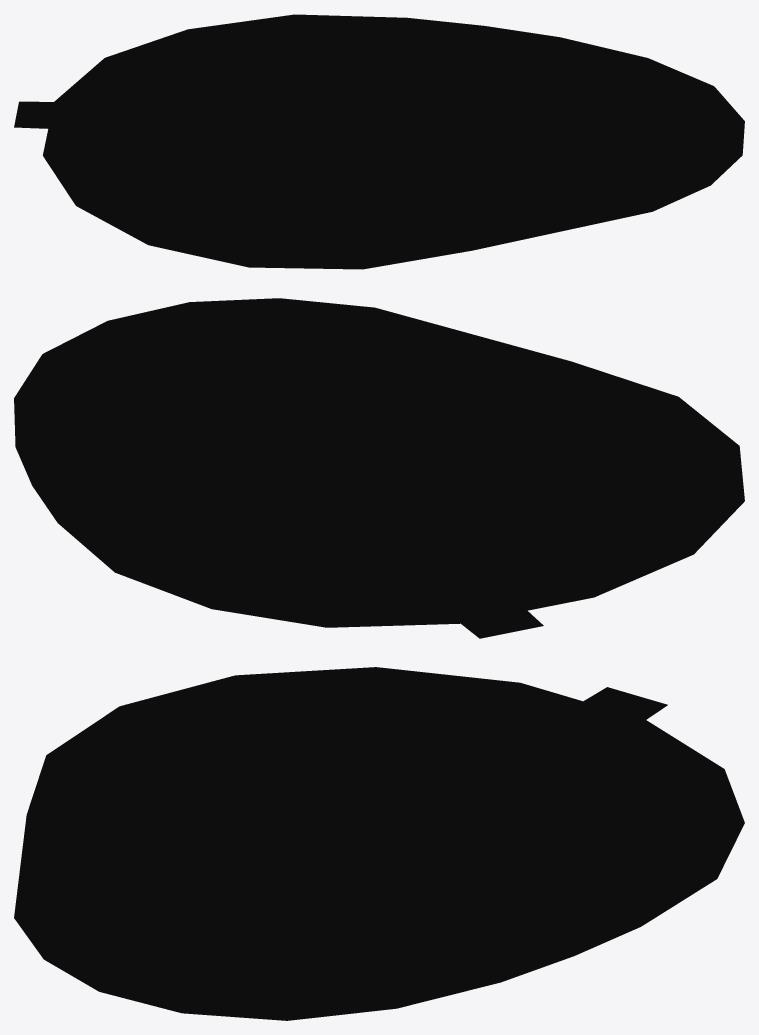
3 renders of one model, top to bottom at view 1: azimuth 30°, elevation 25°; view 2: azimuth 150°, elevation 25°; view 3: azimuth 270°, elevation 25°, orthographic. The views are drawn at different scales.
Parts seen in each view (by area): view 1: Joint_0_Object_0; view 2: Joint_0_Object_0; view 3: Joint_0_Object_0.
Part boxes in pixels (x1=…): Joint_0_Object_0: x1=14, y1=14, x2=744, y2=269; Joint_0_Object_0: x1=14, y1=298, x2=744, y2=638; Joint_0_Object_0: x1=14, y1=667, x2=744, y2=1020.
Size of the model in its own units: 629 by 0 by 549.
Materials: 1 (1 with a texture image).
